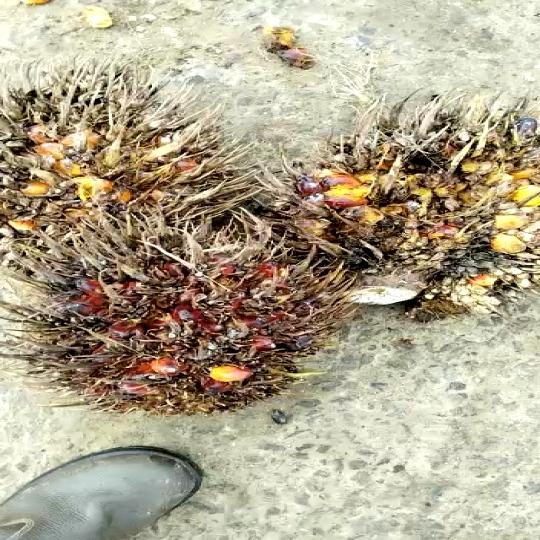terlalu masak: (0, 214, 364, 400), (264, 101, 540, 314), (0, 78, 282, 266)
